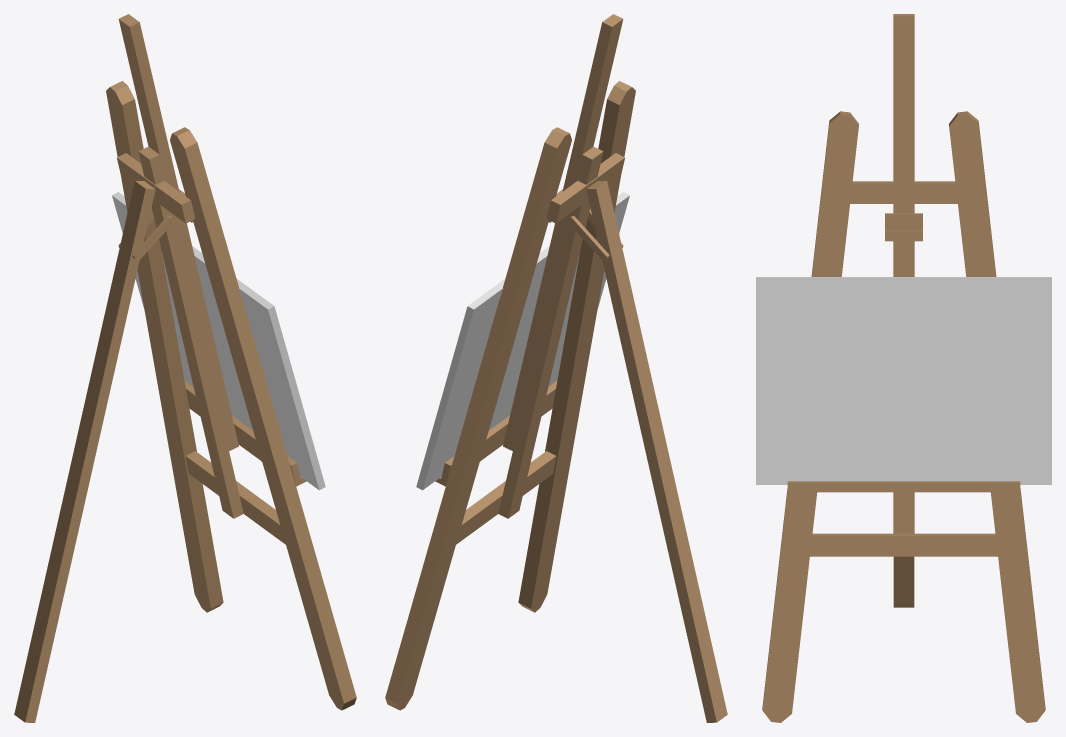
The model's file is easel.fbx.
3 renders of one model, left to right at view 1: azimuth 30°, elevation 25°; view 2: azimuth 150°, elevation 25°; view 3: azimuth 270°, elevation 25°, orthographic. The views are drawn at different scales.
Parts seen in each view (by area): view 1: Cube.027; view 2: Cube.027; view 3: Cube.027.
Boxes of the visible parts, x1,y1,x2,y2 form: Cube.027: [14, 14, 356, 722]; Cube.027: [385, 14, 727, 722]; Cube.027: [756, 14, 1051, 722].
Bounding box in the file's own units: 144 × 350 × 147.
